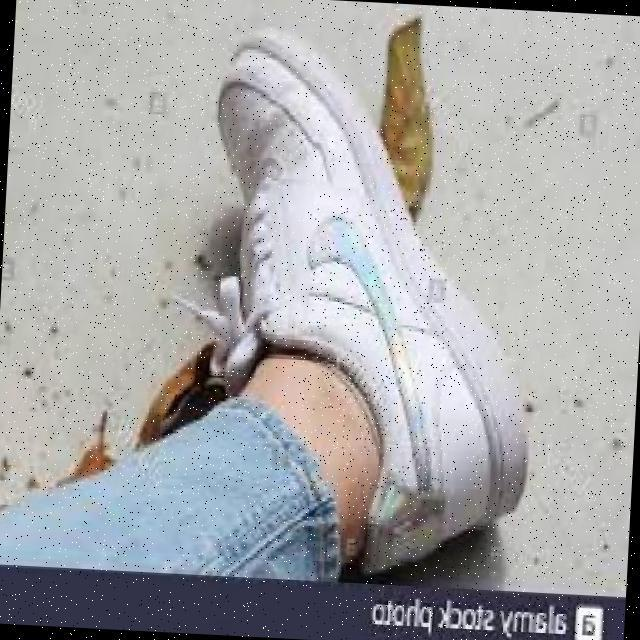Nike: (296, 207, 453, 497)
